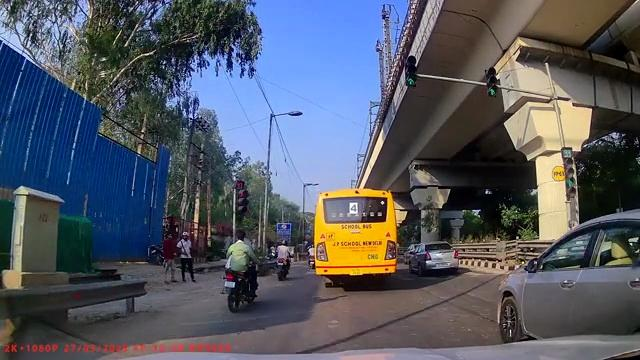motorcycle_without_helmet: (222, 228, 261, 314)
